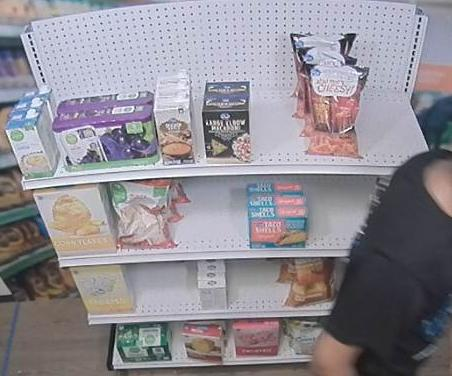stockout: (363, 65, 429, 160), (174, 174, 246, 248), (310, 175, 378, 248), (252, 71, 303, 160), (132, 264, 196, 312), (228, 260, 283, 310)
